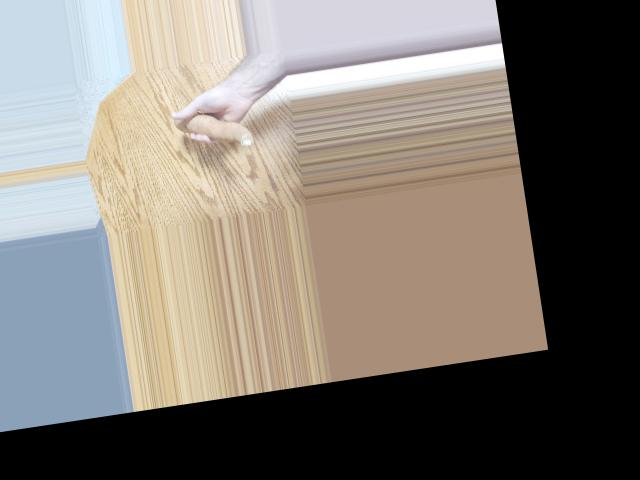sweet_potato: (174, 102, 257, 154)
